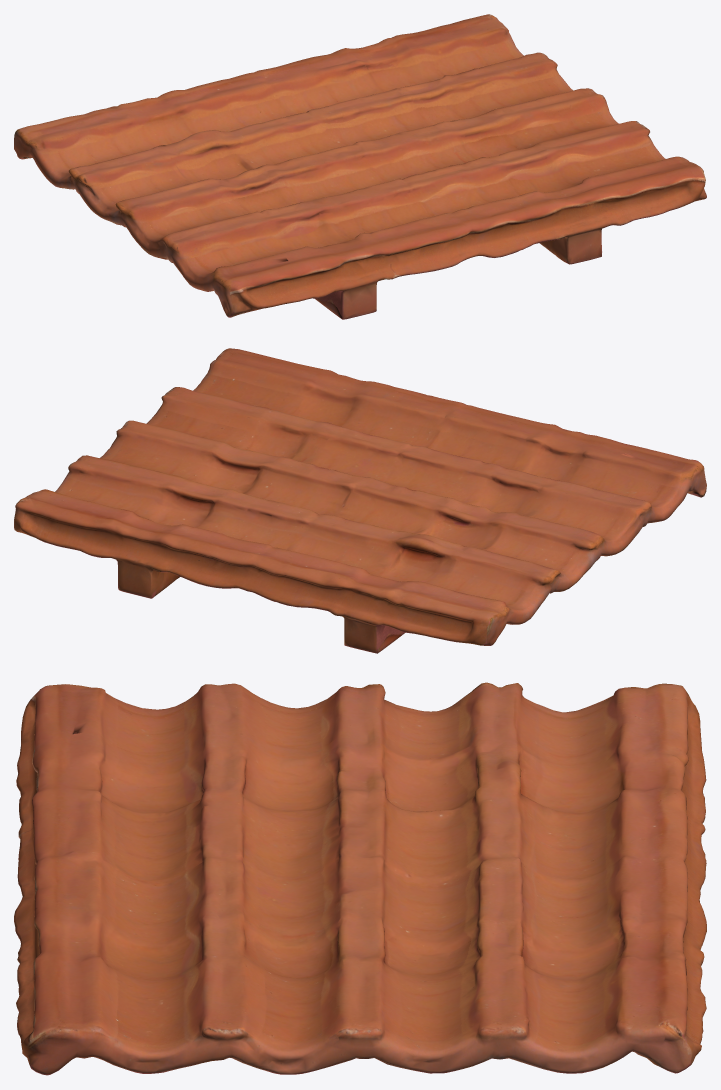
File: model_019a15b0-005a-7cc3-a88b-a7ef5fbe81d7.glb
3 views of the same model, one above another, from view 1: azimuth 30°, elevation 25°; view 2: azimuth 150°, elevation 25°; view 3: azimuth 270°, elevation 25° (orthographic). The views are drawn at different scales.
Bounding box in the file's own units: 2.01 × 0.261 × 1.68.
Materials: 1 (1 with a texture image).
